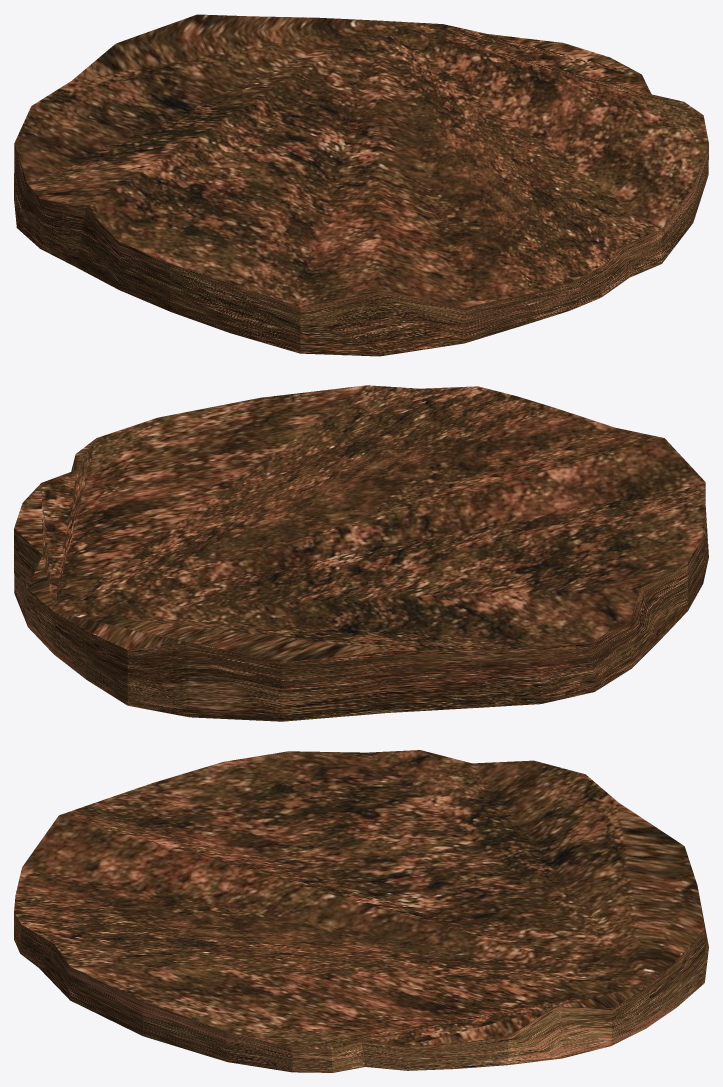
Rendered from Coin.fbx.
3 renders of one model, top to bottom at view 1: azimuth 30°, elevation 25°; view 2: azimuth 150°, elevation 25°; view 3: azimuth 270°, elevation 25°, orthographic. The views are drawn at different scales.
Parts seen in each view (by area): view 1: Cylinder; view 2: Cylinder; view 3: Cylinder.
Part boxes in pixels (<box>): Cylinder: <box>14,14,708,356</box>; Cylinder: <box>14,385,708,721</box>; Cylinder: <box>14,750,708,1072</box>.
Size of the model in its own units: 199 by 24.71 by 204.
